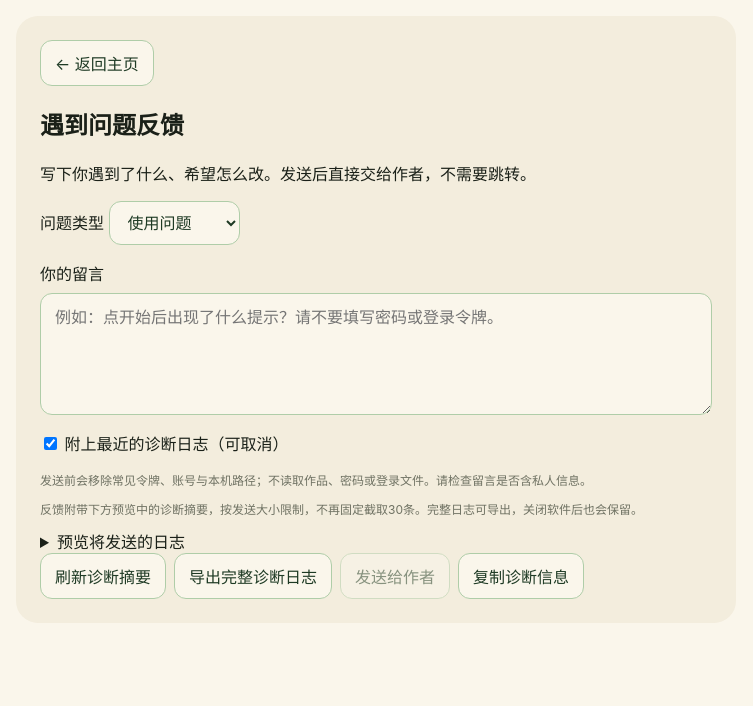
Test: feedback interaction (mock transport; no actual messages) › keeps draft and restores send button after network rejection, allowing retry
This screenshot has width=753, height=706.
Type "测试反馈：请改善安装说明" into the text box labelled "你的留言". click: [376, 354]
box: left=40, top=293, right=712, bottom=415
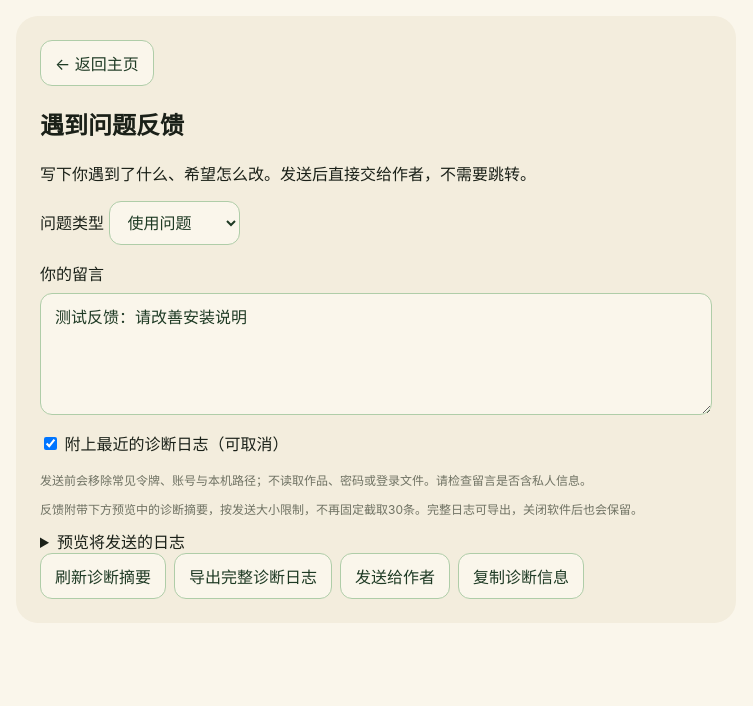
Click the button "发送给作者". click: [395, 576]
box: left=340, top=553, right=450, bottom=599
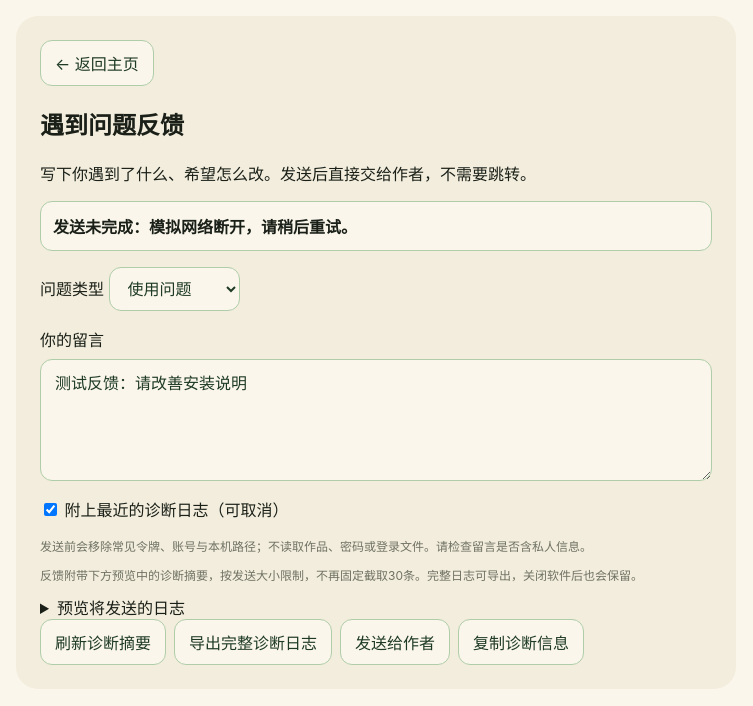
Now the message "发送未完成：模拟网络断开，请稍后重试。" is shown, box left=40, top=201, right=712, bottom=251
Click the button "发送给作者". click: [395, 642]
box: left=340, top=619, right=450, bottom=665
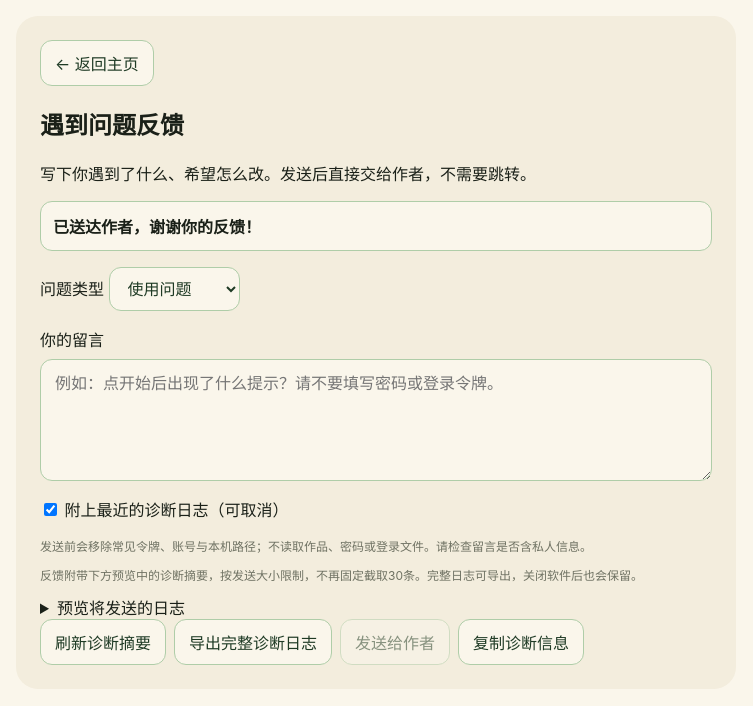
Now the message "已送达作者，谢谢你的反馈！" is shown, box left=40, top=201, right=712, bottom=251
